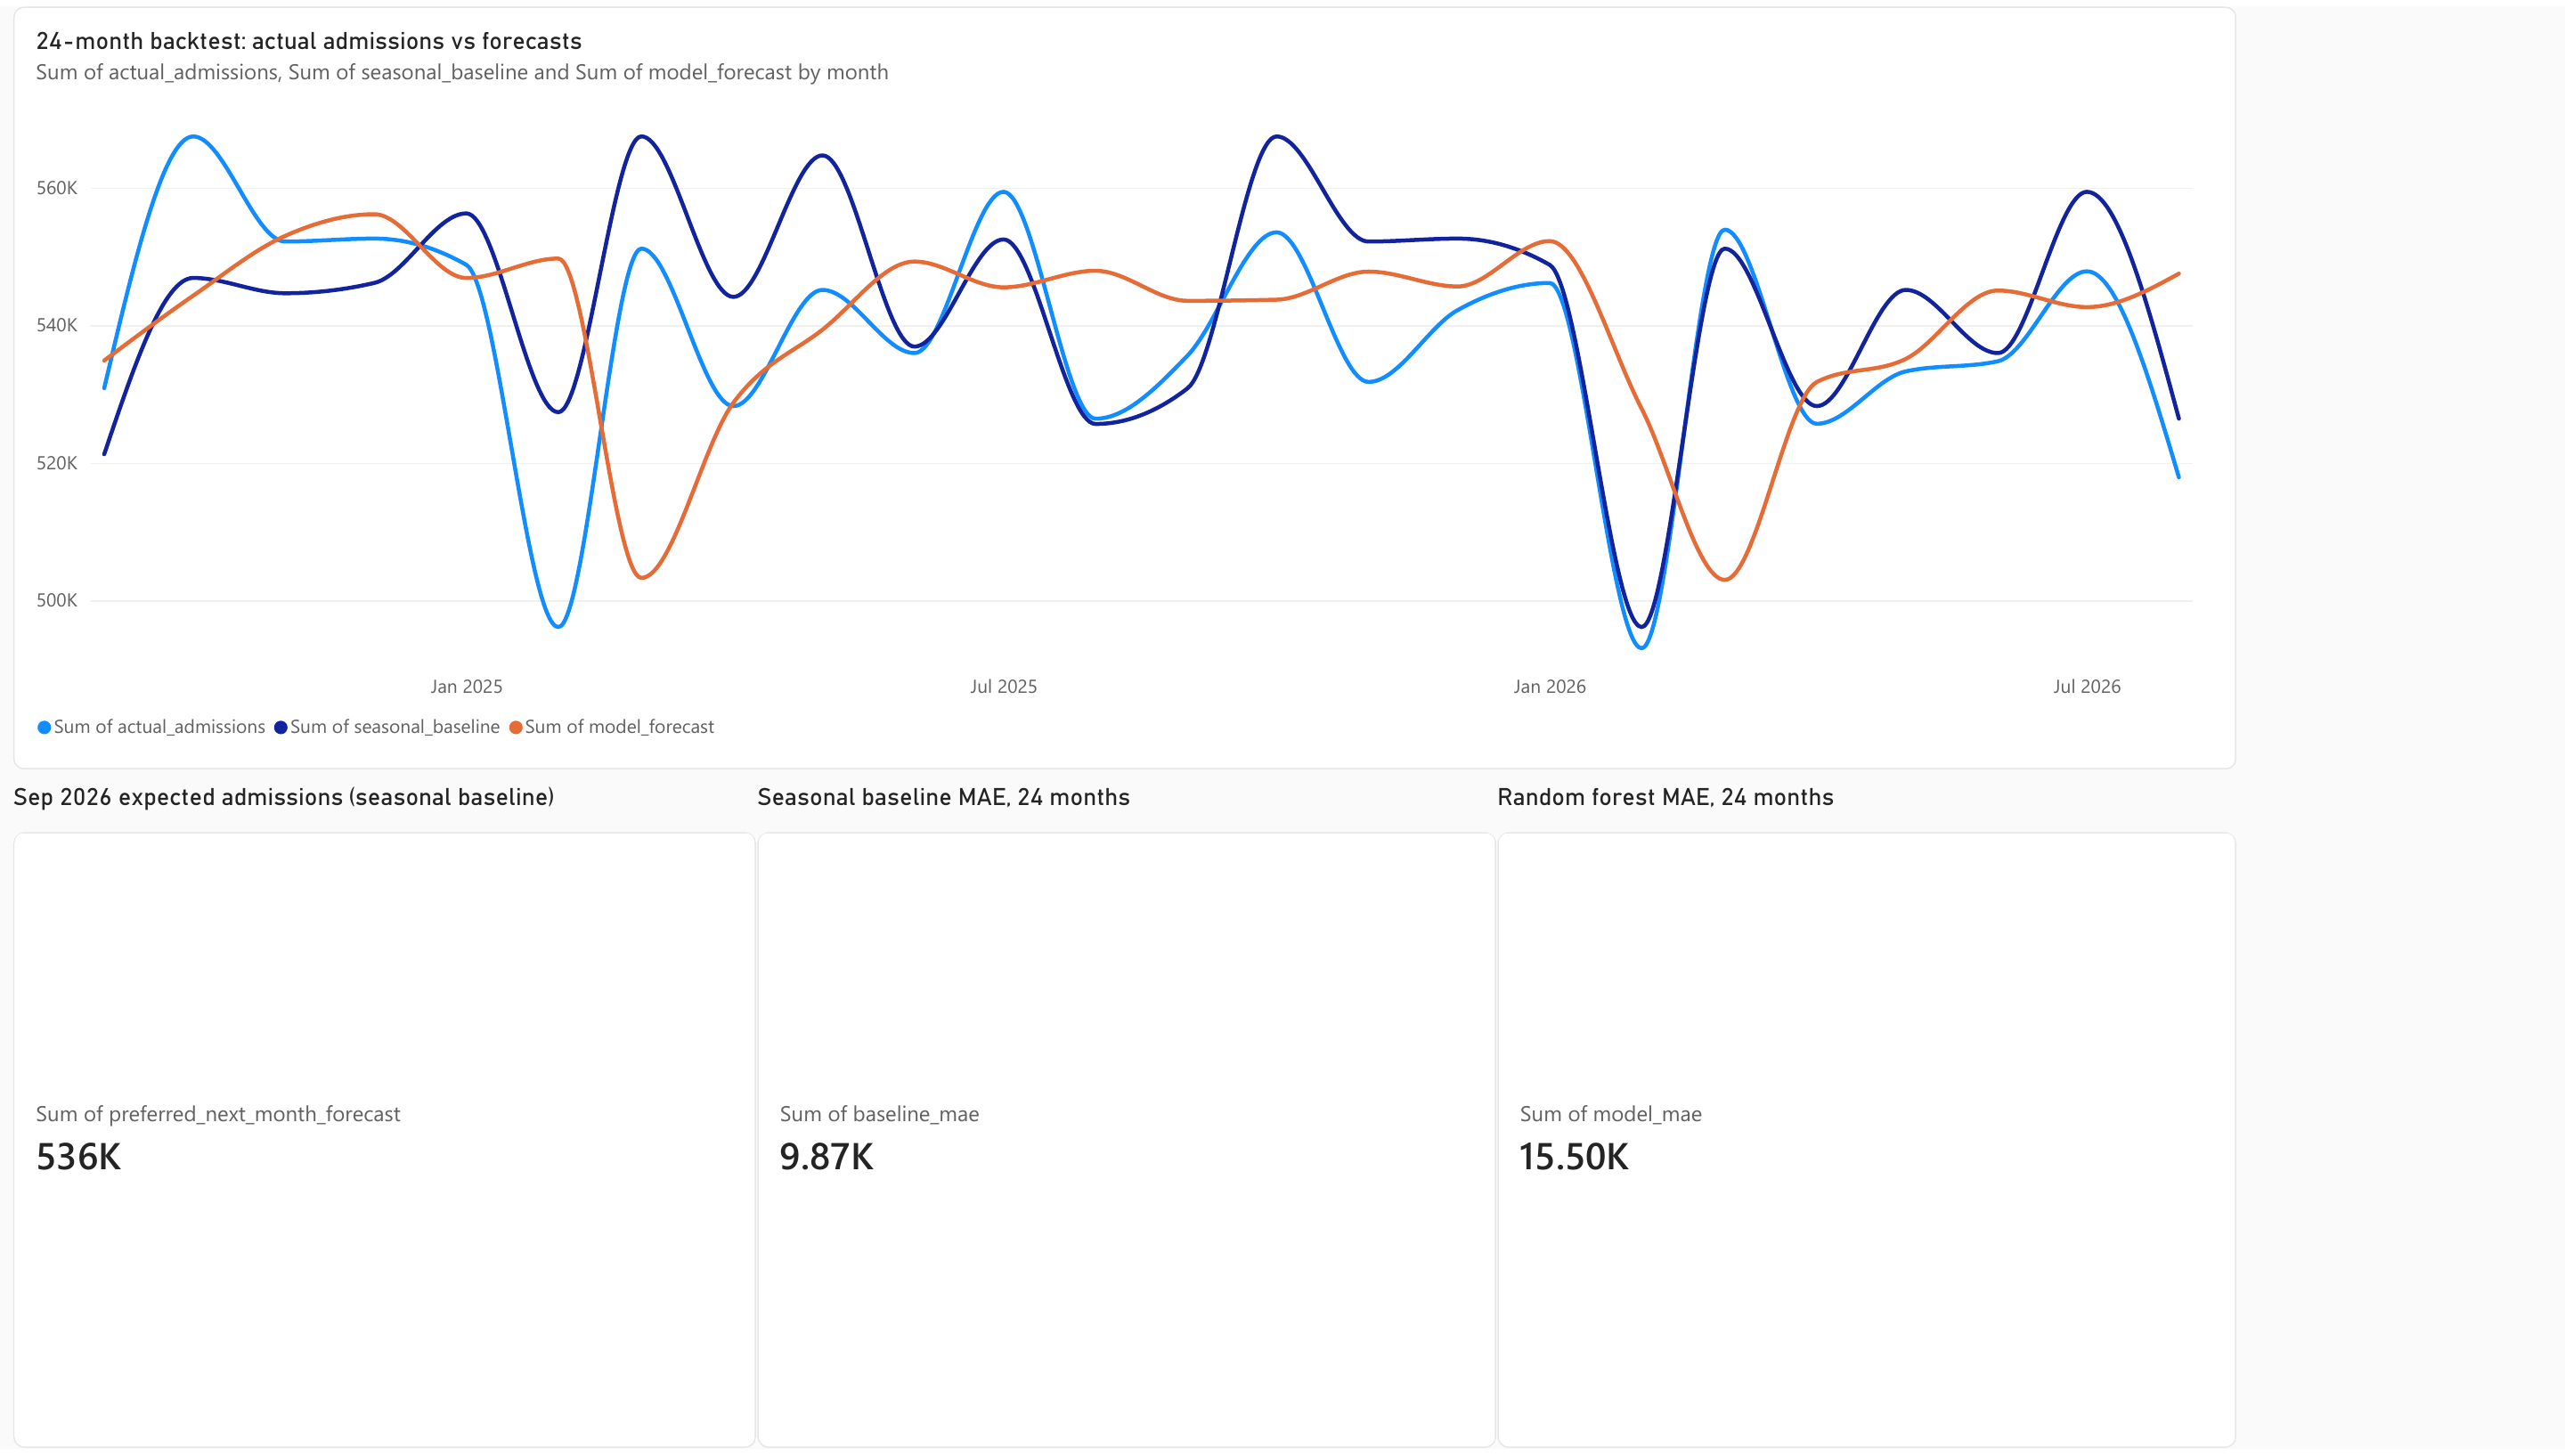

The dashboard page shown, as its layout file describes it:
{"tool":"powerbi","page":{"name":"Admission forecast","canvas":[1920,1080],"ordinal":2},"visuals":[{"type":"lineChart","title":"24-month backtest: actual admissions vs forecasts","fields":{"Category":["admissions_forecast_backtest.month"],"Y":["Sum(admissions_forecast_backtest.actual_admissions)","Sum(admissions_forecast_backtest.seasonal_baseline)","Sum(admissions_forecast_backtest.model_forecast)"]},"box":[10.4,0,1664,570.8],"z":0},{"type":"cardVisual","title":"Sep 2026 expected admissions (seasonal baseline)","fields":{"Data":["Sum(admissions_forecast_summary.preferred_next_month_forecast)"]},"box":[10.4,581.2,557,498.2],"z":1},{"type":"cardVisual","title":"Seasonal baseline MAE, 24 months","fields":{"Data":["Sum(admissions_forecast_summary.baseline_mae)"]},"box":[567.4,581.2,553.5,498.2],"z":2},{"type":"cardVisual","title":"Random forest MAE, 24 months","fields":{"Data":["Sum(admissions_forecast_summary.model_mae)"]},"box":[1121,581,553,498],"z":3}]}

Visuals, with their boxes in screenshot pixels (x1, y1, x2, y2), scaled from the page's 1920x1080 canvas onto the 2565x1456 screenshot:
"24-month backtest: actual admissions vs forecasts" lineChart: 14:0:2237:769
"Sep 2026 expected admissions (seasonal baseline)" cardVisual: 14:784:758:1455
"Seasonal baseline MAE, 24 months" cardVisual: 758:784:1497:1455
"Random forest MAE, 24 months" cardVisual: 1498:784:2236:1454
